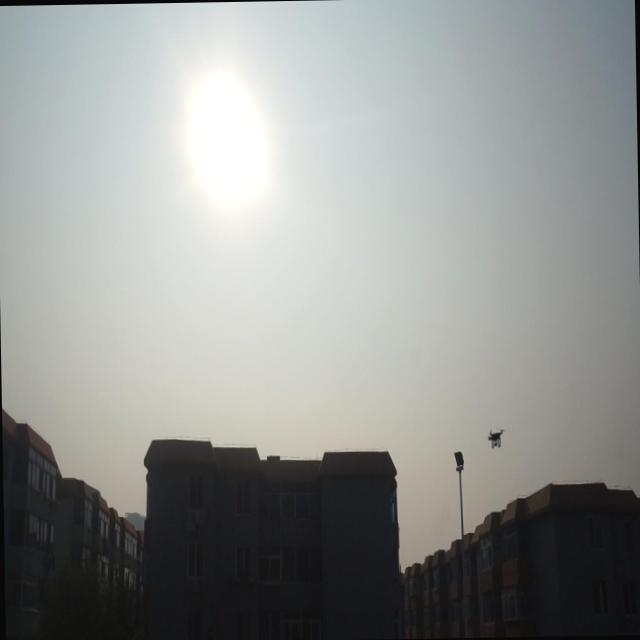drone: (486, 424, 506, 449)
